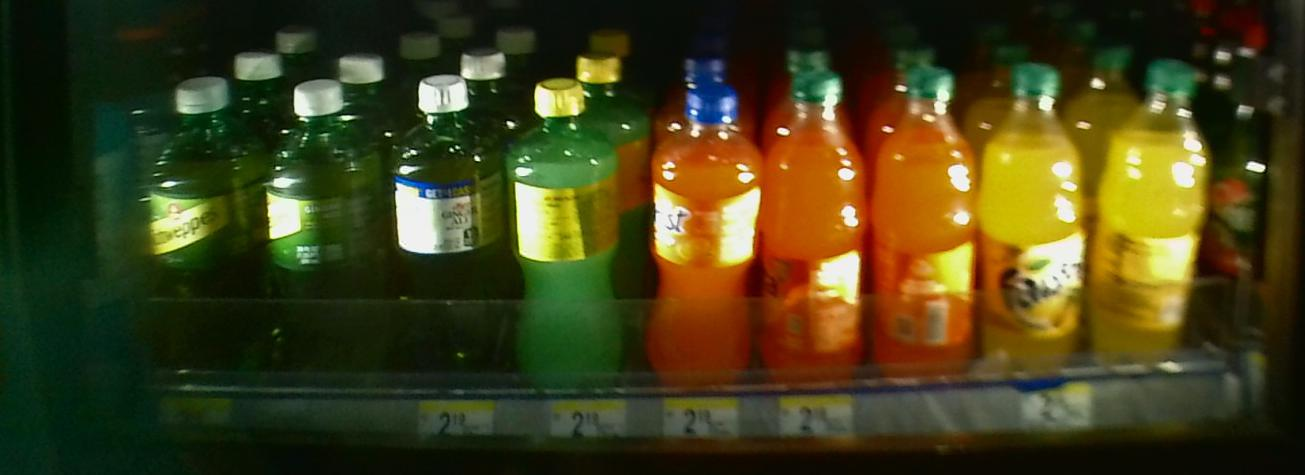bottle: (117, 54, 257, 384), (503, 80, 631, 394), (865, 63, 982, 396), (1103, 62, 1211, 397), (649, 79, 756, 400), (390, 71, 496, 392), (992, 65, 1090, 404), (270, 72, 370, 392), (762, 71, 858, 398)
